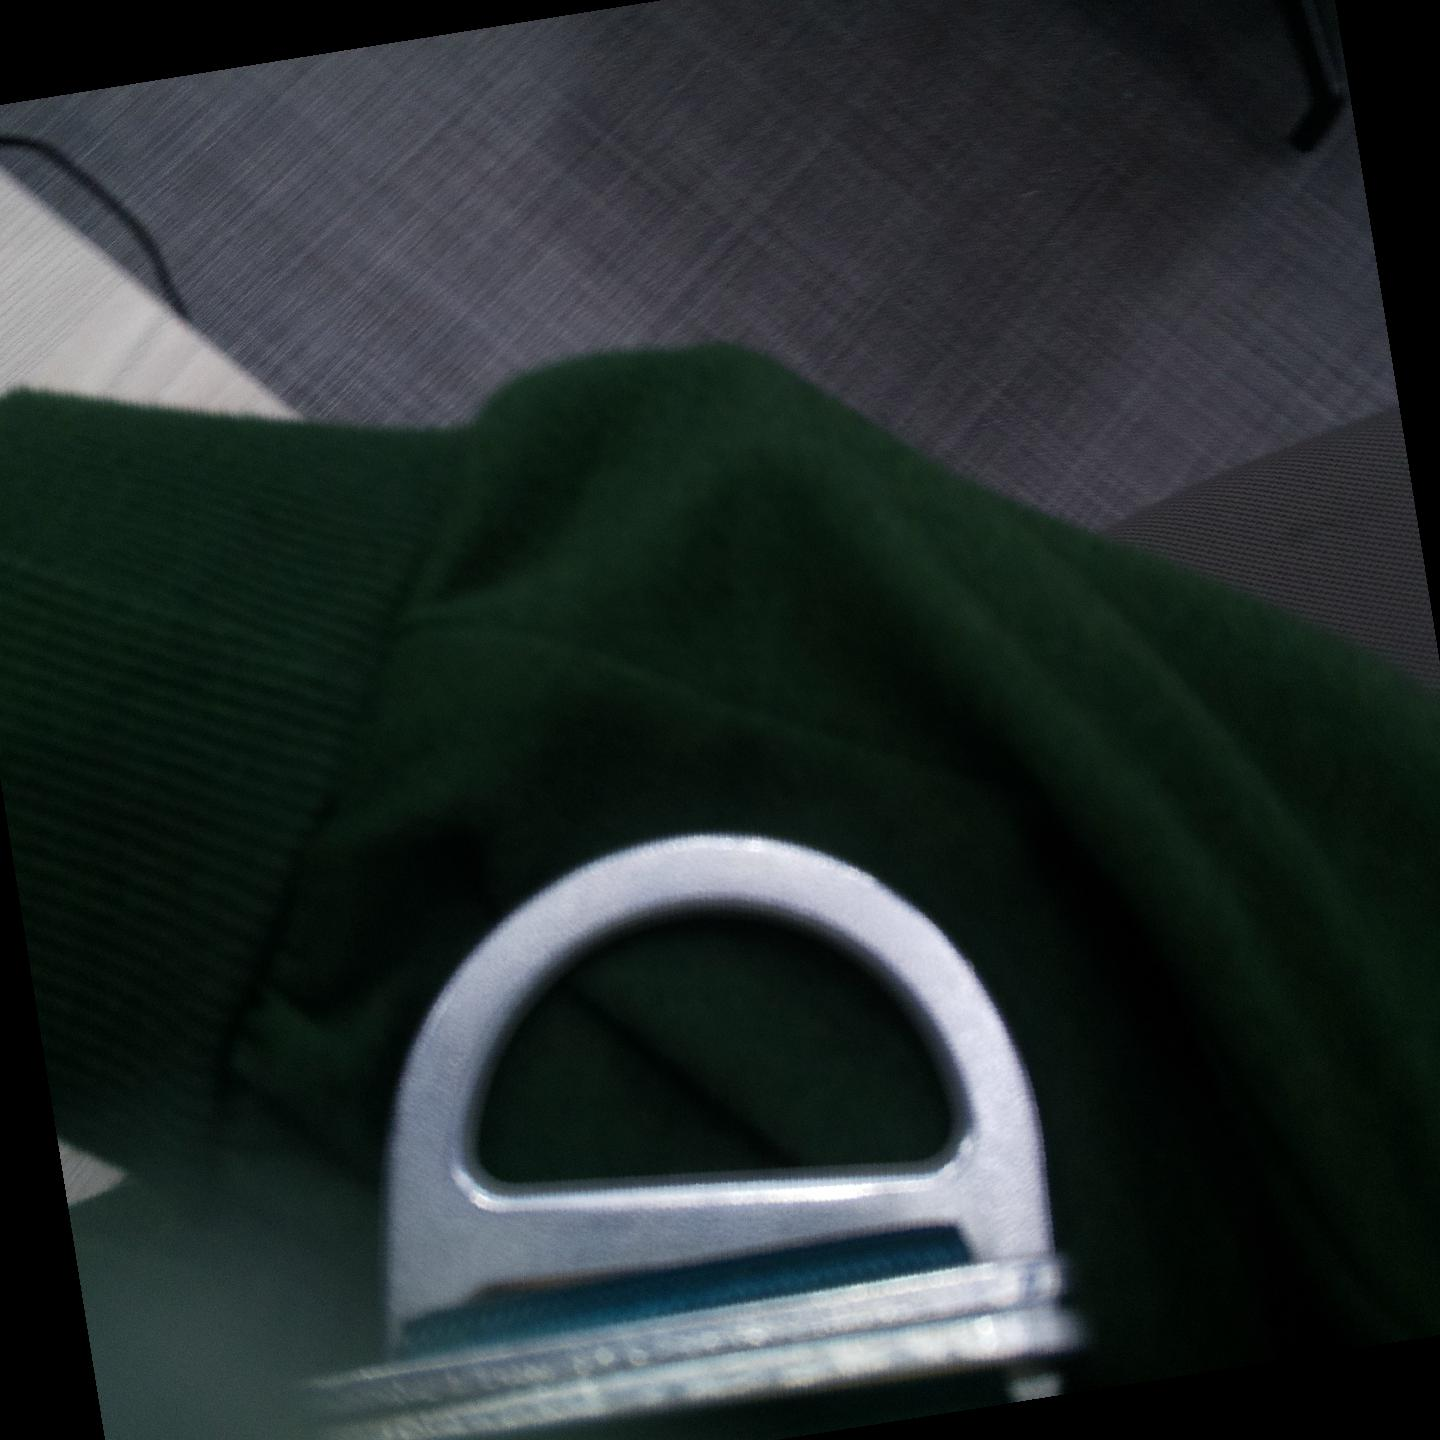UNSUCCESS: (334, 825, 1083, 1270)
